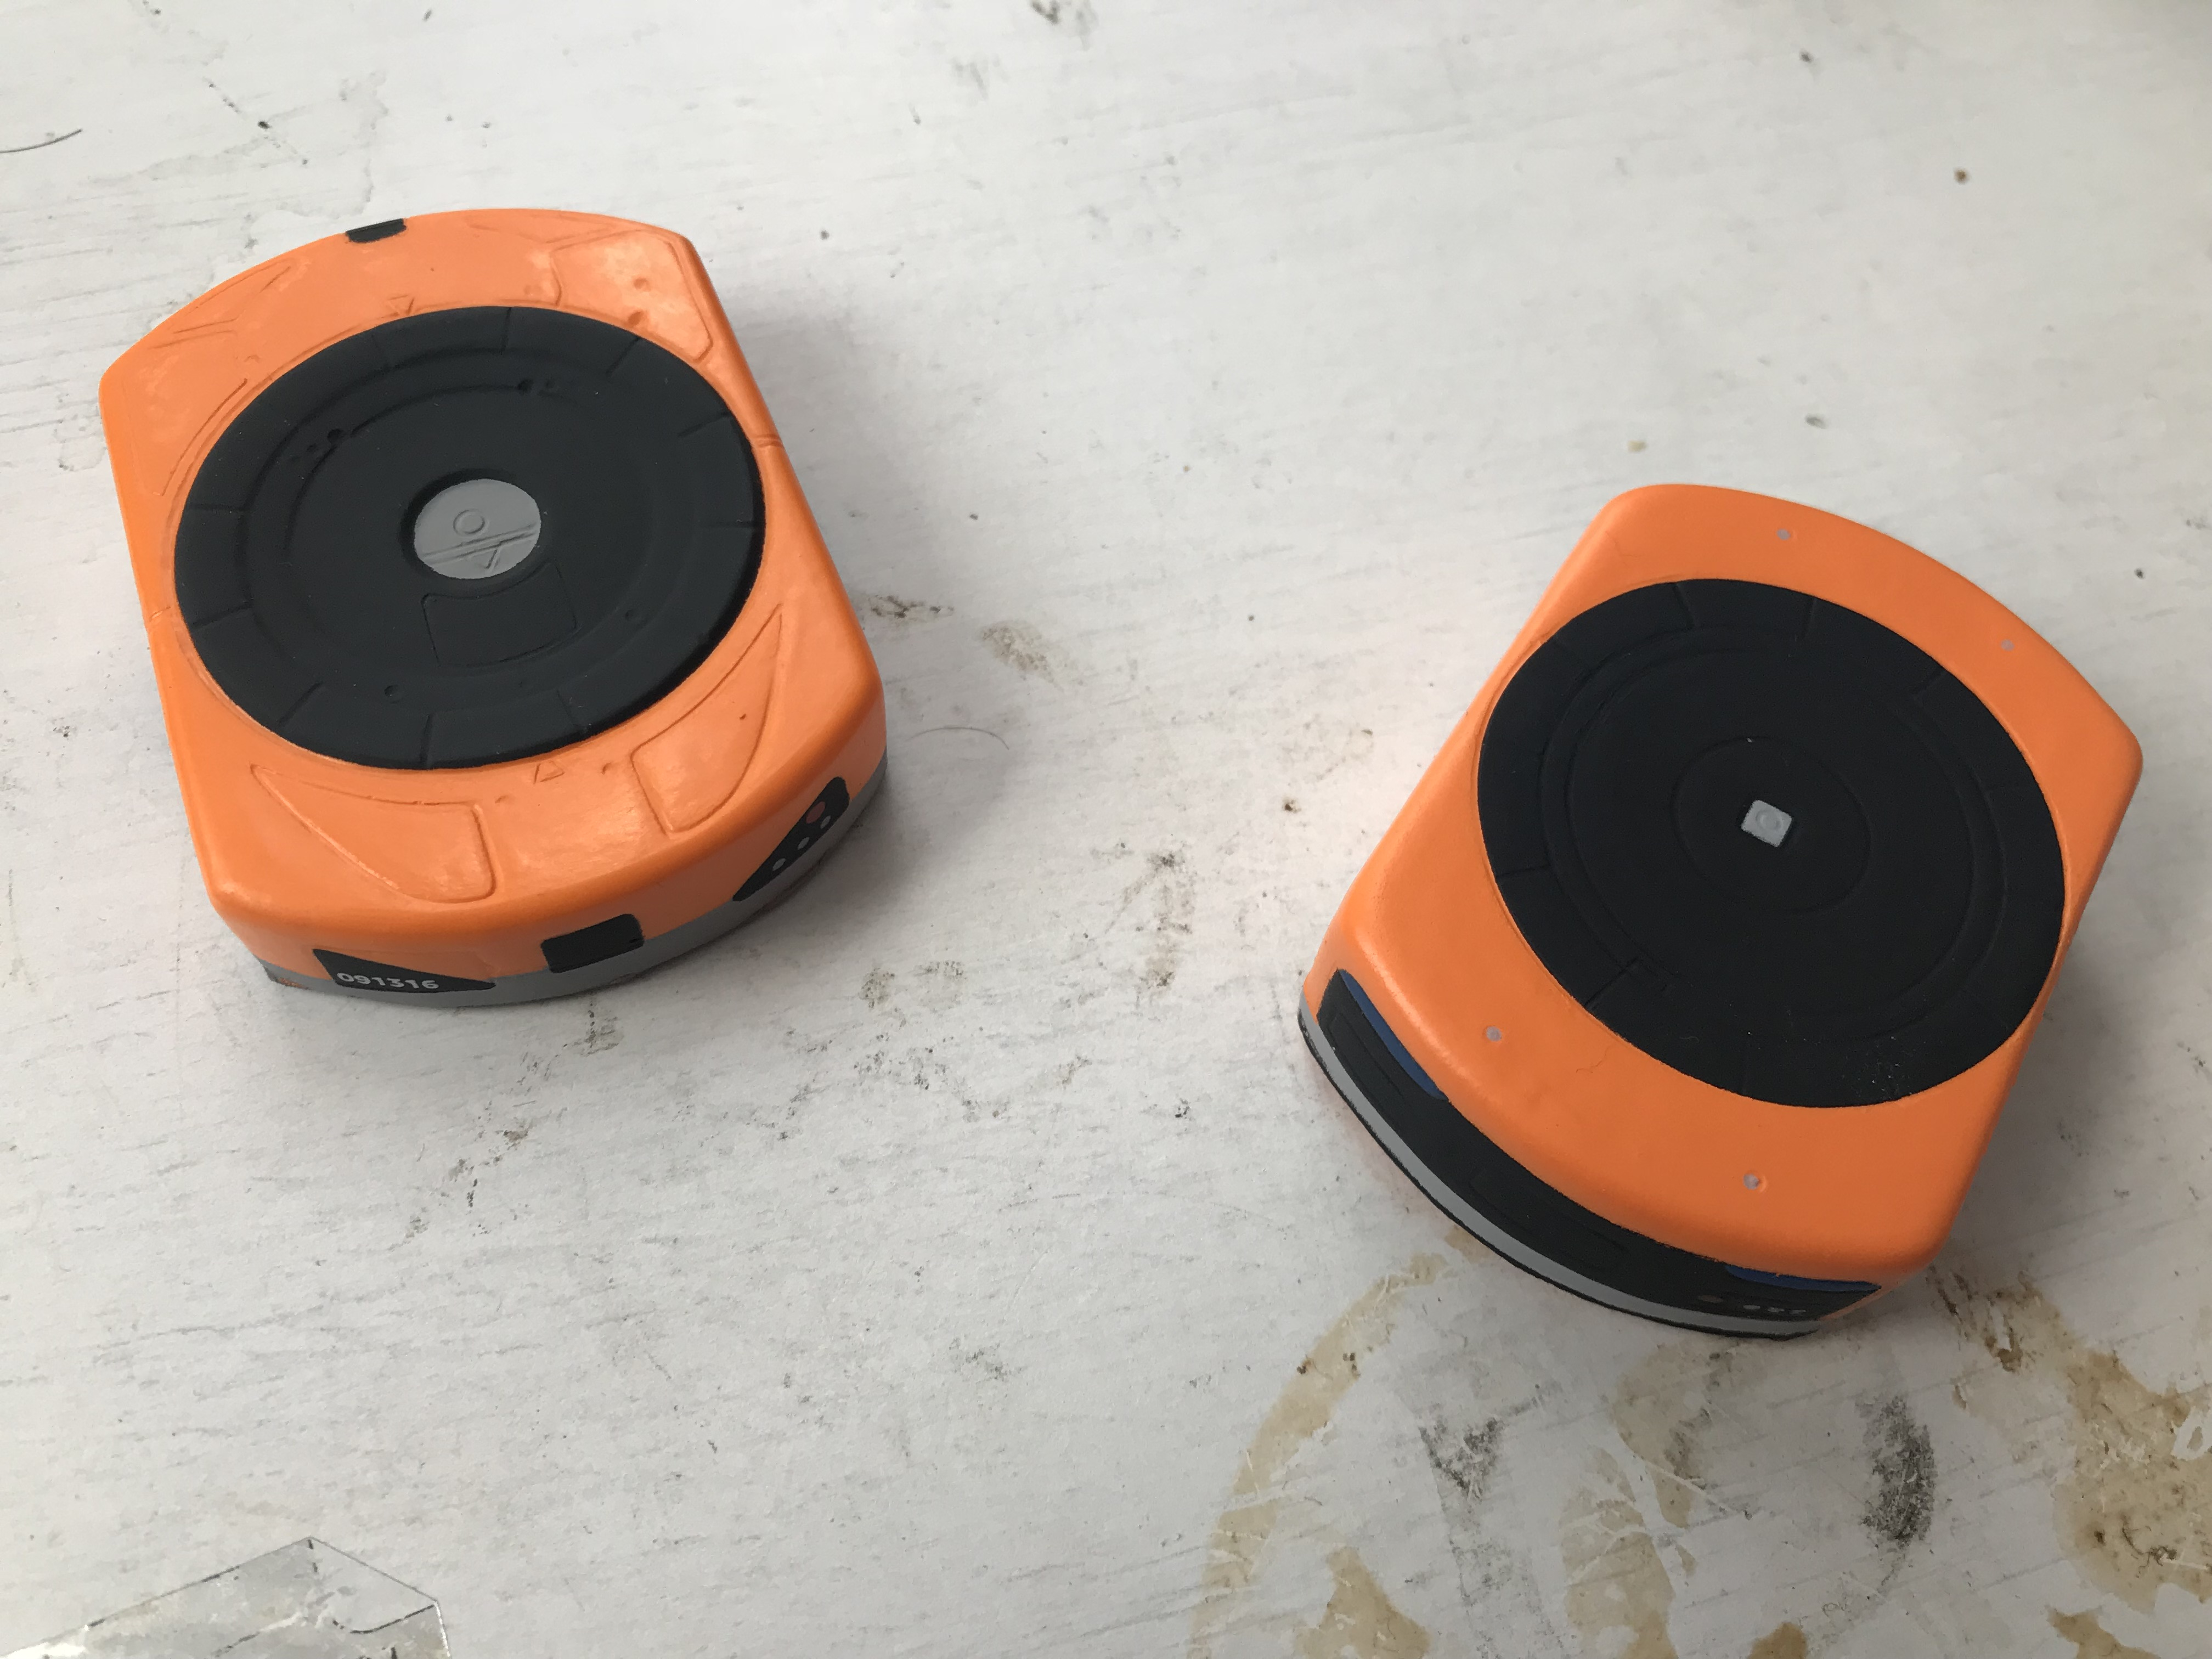amazon_bot: (1249, 450, 2172, 1392), (77, 164, 935, 1060)
